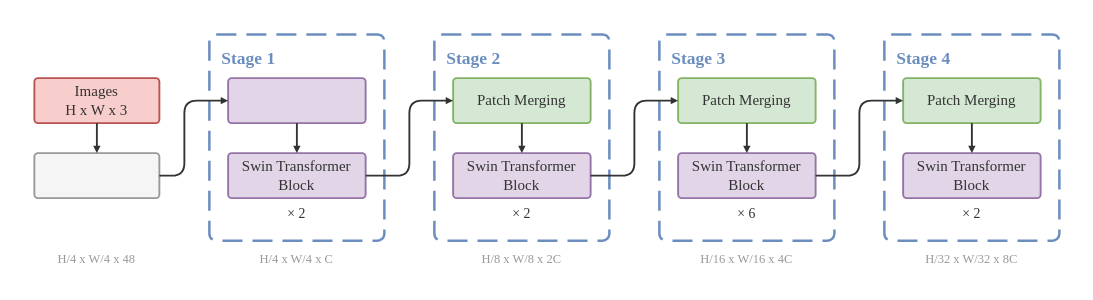
Image size: 1093x300. Some labels were removed from this diagram. The shapes that lost their labels are listed below. From the top down, each one's centre as x and y in pixels, then its label:
At point (296, 100): "Linear Embedding".
At point (96, 175): "Patch Partition".
